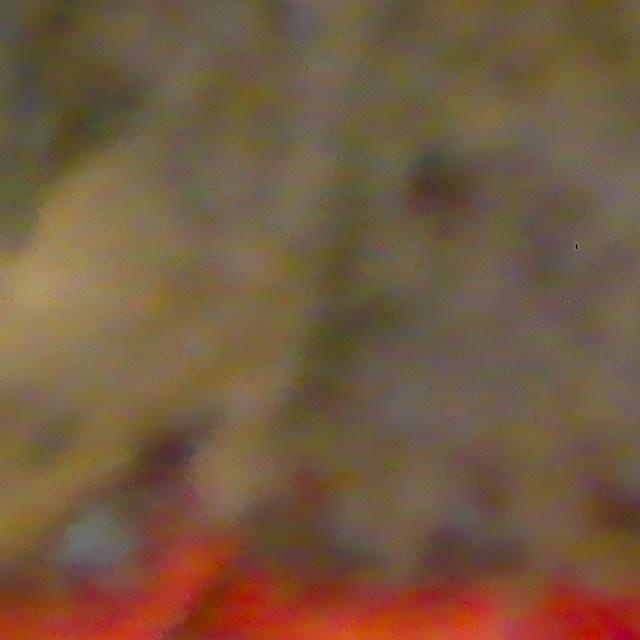SeaGrape: (61, 499, 144, 578)
